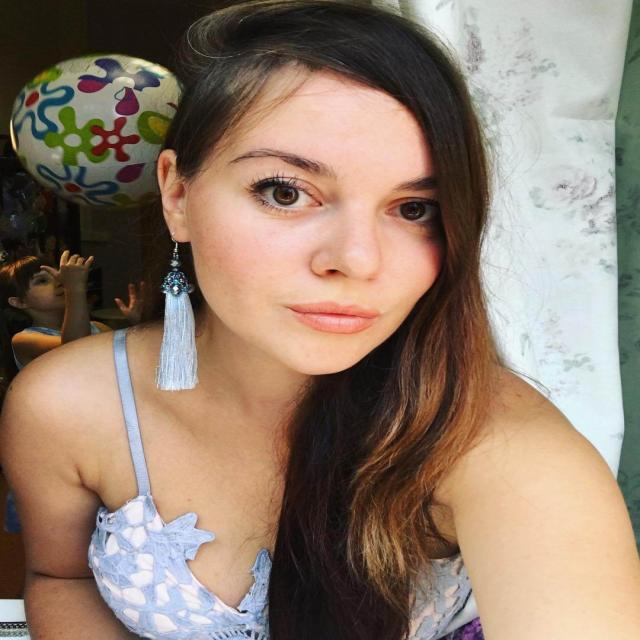earlobe: (155, 149, 194, 245)
